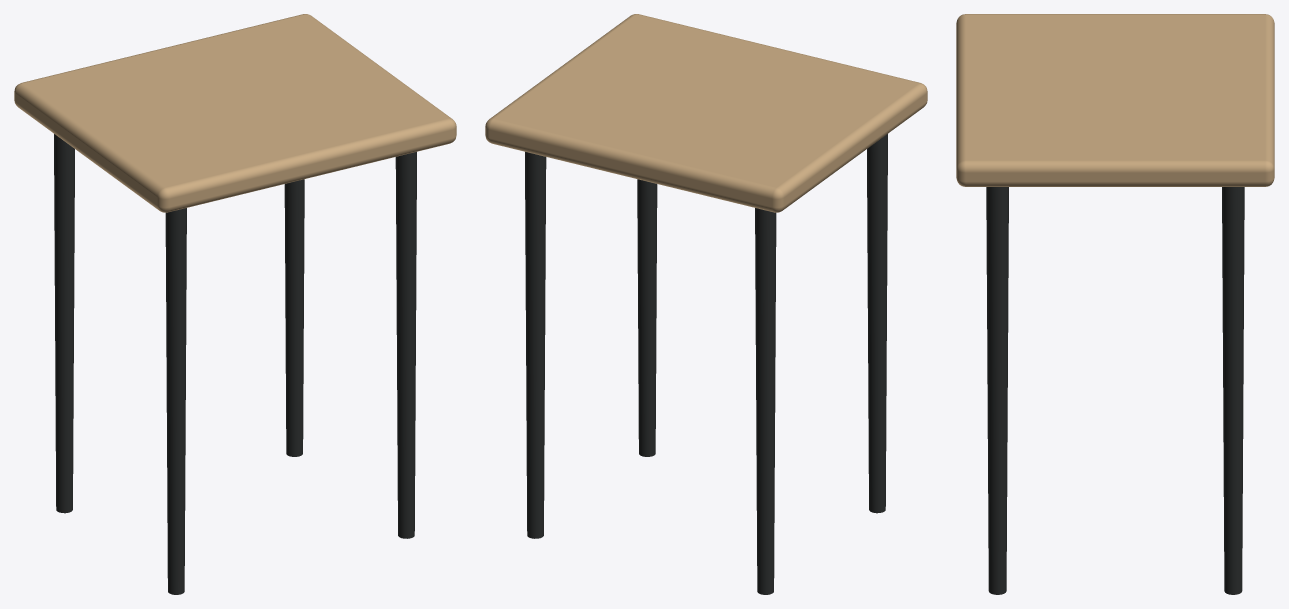
File: sideTable.glb
3 views of the same model, side by side, from view 1: azimuth 30°, elevation 25°; view 2: azimuth 150°, elevation 25°; view 3: azimuth 270°, elevation 25° (orthographic). The views are drawn at different scales.
Size of the model in its own units: 0.57 by 0.77 by 0.5.
